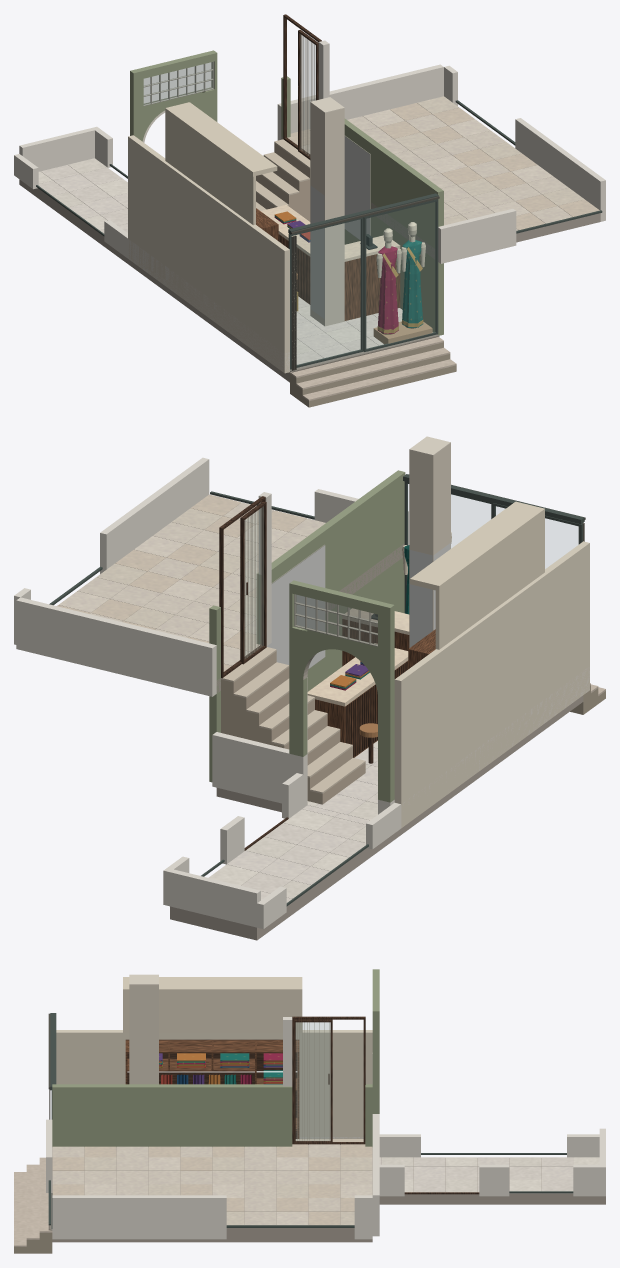
Rendered from Boutique-recessed.glb.
3 views of the same model, one above another, from view 1: azimuth 30°, elevation 25°; view 2: azimuth 150°, elevation 25°; view 3: azimuth 270°, elevation 25° (orthographic). The views are drawn at different scales.
Parts seen in each view (by area): view 1: Room shell and flooring, Sliding entrance - fixed glass display, Sliding entrance - closed left glass leaf, Recessed lighting, shelf strips and retained soffit, Frontage steps, Stair and sliding door to mezzanine, Existing pillar, Right partition, Rear arched opening to side room C, Cash counter - flush to pillar and wall, Mirror 1 - right partition opposite shelf, Existing glazed transom over rear arch to C (+6 smaller); view 2: Room shell and flooring, Stair and sliding door to mezzanine, Recessed lighting, shelf strips and retained soffit, Rear arched opening to side room C, Right partition, Existing pillar, Central sales counter and seating, Mirror 1 - right partition opposite shelf, Existing glazed transom over rear arch to C, Sliding entrance - fixed glass display, Mirror 3 - pillar face toward central counter, Cash counter - flush to pillar and wall (+2 smaller); view 3: Room shell and flooring, Right partition, Recessed lighting, shelf strips and retained soffit, Stair and sliding door to mezzanine, Inward-facing saree shelf, Existing pillar, Frontage steps, Rear arched opening to side room C, Sliding entrance - upper rail and street steps.
Part boxes in pixels (x1,y1,x2,y2): Room shell and flooring: [14, 64, 605, 382]; Sliding entrance - fixed glass display: [363, 199, 438, 351]; Sliding entrance - closed left glass leaf: [288, 217, 363, 369]; Recessed lighting, shelf strips and retained soffit: [165, 102, 277, 224]; Frontage steps: [290, 321, 456, 407]; Stair and sliding door to mezzanine: [256, 14, 329, 221]; Existing pillar: [310, 97, 344, 326]; Right partition: [281, 76, 443, 248]; Rear arched opening to side room C: [130, 50, 217, 142]; Cash counter - flush to pillar and wall: [344, 234, 400, 320]; Mirror 1 - right partition opposite shelf: [344, 135, 370, 240]; Existing glazed transom over rear arch to C: [143, 61, 214, 106]; Room shell and flooring: [14, 457, 589, 940]; Stair and sliding door to mezzanine: [219, 492, 365, 804]; Recessed lighting, shelf strips and retained soffit: [410, 501, 544, 649]; Rear arched opening to side room C: [289, 580, 394, 804]; Right partition: [209, 470, 405, 680]; Existing pillar: [409, 436, 450, 647]; Central sales counter and seating: [307, 643, 408, 763]; Mirror 1 - right partition opposite shelf: [266, 544, 325, 669]; Existing glazed transom over rear arch to C: [294, 594, 377, 646]; Sliding entrance - fixed glass display: [404, 481, 492, 613]; Mirror 3 - pillar face toward central counter: [410, 550, 432, 647]; Cash counter - flush to pillar and wall: [342, 608, 409, 666]; Room shell and flooring: [46, 1030, 605, 1242]; Right partition: [52, 1084, 372, 1146]; Recessed lighting, shelf strips and retained soffit: [123, 977, 302, 1072]; Stair and sliding door to mezzanine: [283, 1016, 365, 1144]; Inward-facing saree shelf: [125, 1039, 299, 1138]; Existing pillar: [129, 974, 158, 1084]; Frontage steps: [14, 1157, 52, 1253]; Rear arched opening to side room C: [372, 969, 379, 1113]; Sliding entrance - upper rail and street steps: [50, 1013, 56, 1230].
Size of the model in its own units: 5.33 by 3.75 by 8.32.
58 materials, 22 textured.
